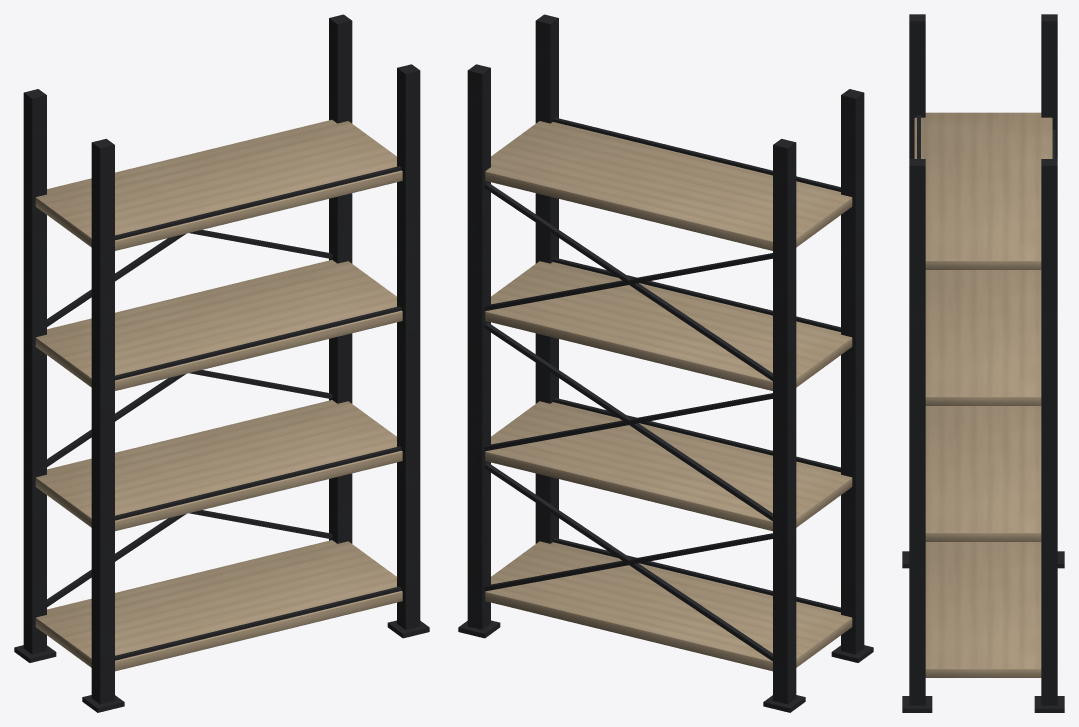
File: stock_shelving.glb
3 views of the same model, side by side, from view 1: azimuth 30°, elevation 25°; view 2: azimuth 150°, elevation 25°; view 3: azimuth 270°, elevation 25° (orthographic). The views are drawn at different scales.
Visible parts, largest first — view 1: Board_02, Board_01, Board_04, Board_03, Post_LF, Post_RF, Post_LB, Post_RB, Board_Lip_01, Board_Lip_02, Board_Lip_03, Board_Lip_04 (+6 smaller); view 2: Board_04, Board_03, Board_02, Board_01, Post_LB, Post_RB, Post_LF, Post_RF, Brace_02a, Brace_03a, Brace_01a, Brace_01b (+6 smaller); view 3: Board_04, Board_01, Board_02, Board_03, Post_RB, Post_RF, Post_LF, Post_LB, Foot_RB, Foot_RF.
Boxes of the visible parts, x1=… form: Board_02: x1=35, y1=400, x2=402, y2=531; Board_01: x1=35, y1=540, x2=402, y2=671; Board_04: x1=35, y1=119, x2=402, y2=250; Board_03: x1=35, y1=260, x2=402, y2=390; Post_LF: x1=91, y1=138, x2=114, y2=704; Post_RF: x1=397, y1=64, x2=420, y2=629; Post_LB: x1=23, y1=89, x2=46, y2=654; Post_RB: x1=329, y1=14, x2=352, y2=543; Board_Lip_01: x1=115, y1=586, x2=401, y2=660; Board_Lip_02: x1=115, y1=446, x2=401, y2=520; Board_Lip_03: x1=115, y1=306, x2=401, y2=380; Board_Lip_04: x1=115, y1=166, x2=401, y2=240; Board_04: x1=485, y1=121, x2=852, y2=250; Board_03: x1=485, y1=261, x2=852, y2=390; Board_02: x1=485, y1=401, x2=852, y2=531; Board_01: x1=485, y1=541, x2=852, y2=671; Post_LB: x1=773, y1=138, x2=796, y2=704; Post_RB: x1=467, y1=64, x2=490, y2=629; Post_LF: x1=841, y1=89, x2=864, y2=654; Post_RF: x1=535, y1=14, x2=558, y2=543; Brace_02a: x1=484, y1=322, x2=772, y2=521; Brace_03a: x1=484, y1=182, x2=772, y2=380; Brace_01a: x1=484, y1=462, x2=772, y2=661; Brace_01b: x1=484, y1=533, x2=772, y2=591; Board_04: x1=914, y1=112, x2=1052, y2=269; Board_01: x1=925, y1=542, x2=1041, y2=677; Board_02: x1=925, y1=406, x2=1041, y2=541; Board_03: x1=925, y1=270, x2=1041, y2=405; Post_RB: x1=1041, y1=159, x2=1057, y2=705; Post_RF: x1=909, y1=159, x2=925, y2=705; Post_LF: x1=909, y1=14, x2=925, y2=158; Post_LB: x1=1041, y1=14, x2=1057, y2=158; Foot_RB: x1=1034, y1=696, x2=1064, y2=712; Foot_RF: x1=902, y1=696, x2=932, y2=712.
Size of the model in its own units: 1.24 by 2 by 0.54.
Materials: 3 (2 with a texture image).
